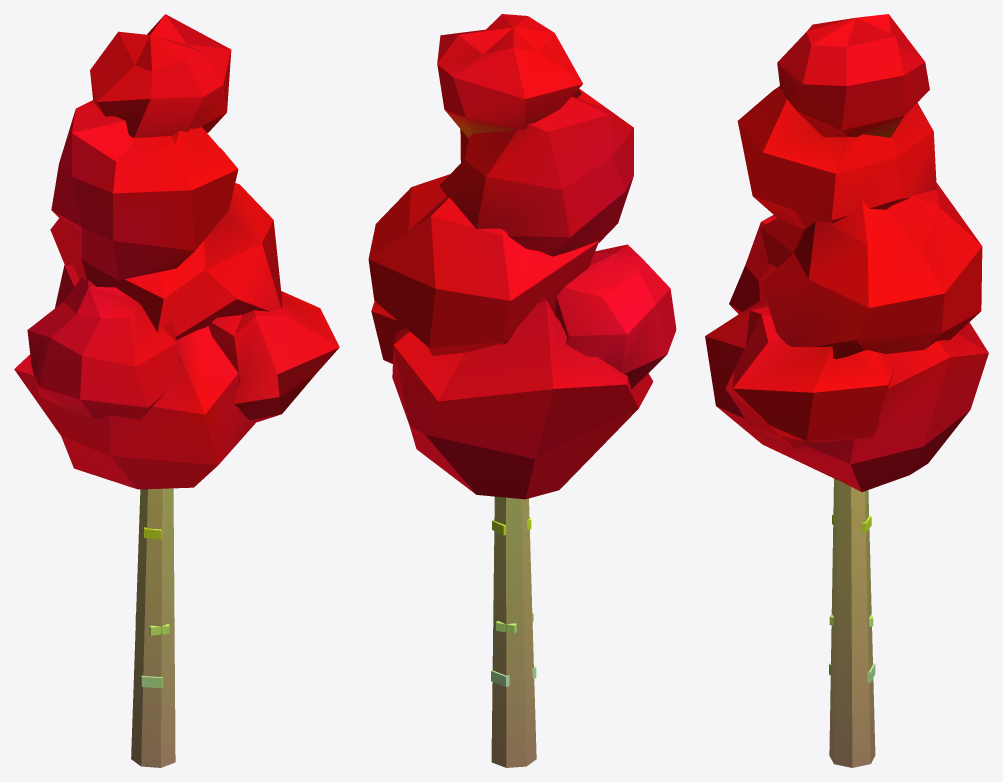
The model's file is Tree_Birch_Autumn_01.fbx.
3 views of the same model, side by side, from view 1: azimuth 30°, elevation 25°; view 2: azimuth 150°, elevation 25°; view 3: azimuth 270°, elevation 25° (orthographic). The views are drawn at different scales.
Visible parts, largest first — view 1: Tree_Birch_Autumn_01; view 2: Tree_Birch_Autumn_01; view 3: Tree_Birch_Autumn_01.
Boxes of the visible parts, <box> form: Tree_Birch_Autumn_01: <box>14,14,339,767</box>; Tree_Birch_Autumn_01: <box>368,14,676,767</box>; Tree_Birch_Autumn_01: <box>705,14,988,767</box>.
Bounding box in the file's own units: 2.39 × 5.88 × 2.05.
